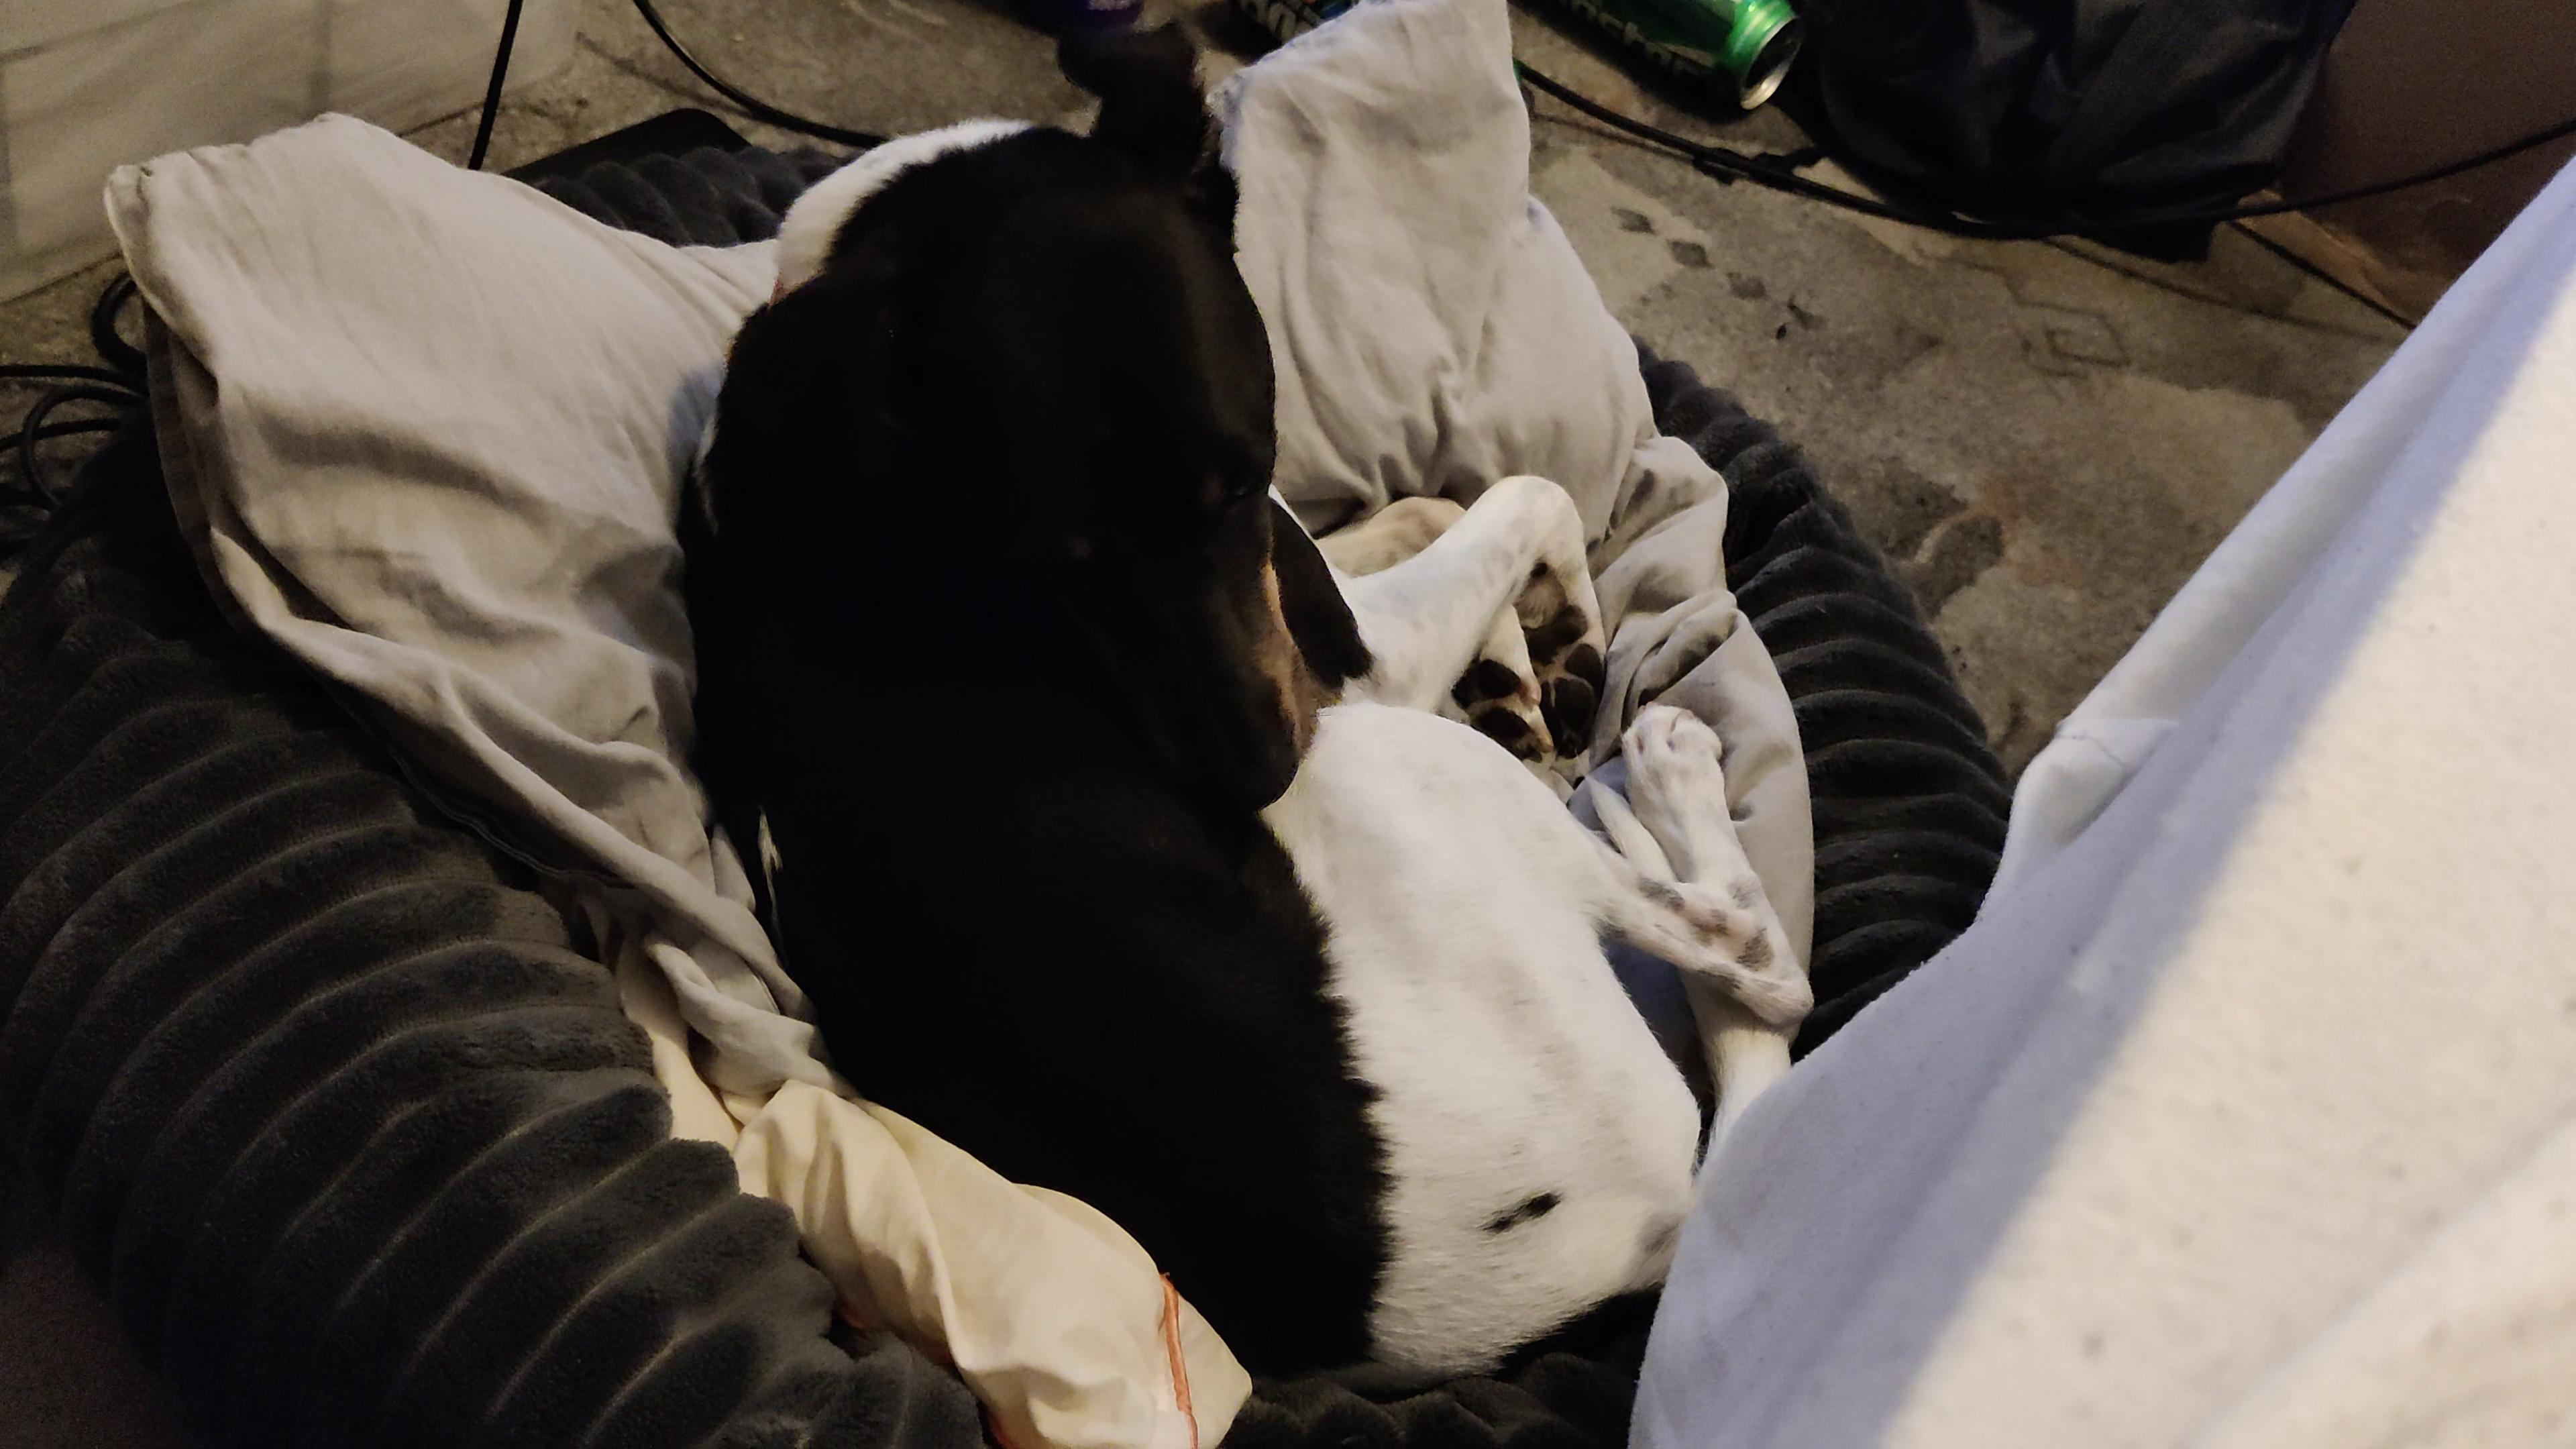Dog: (667, 16, 1865, 1410)
